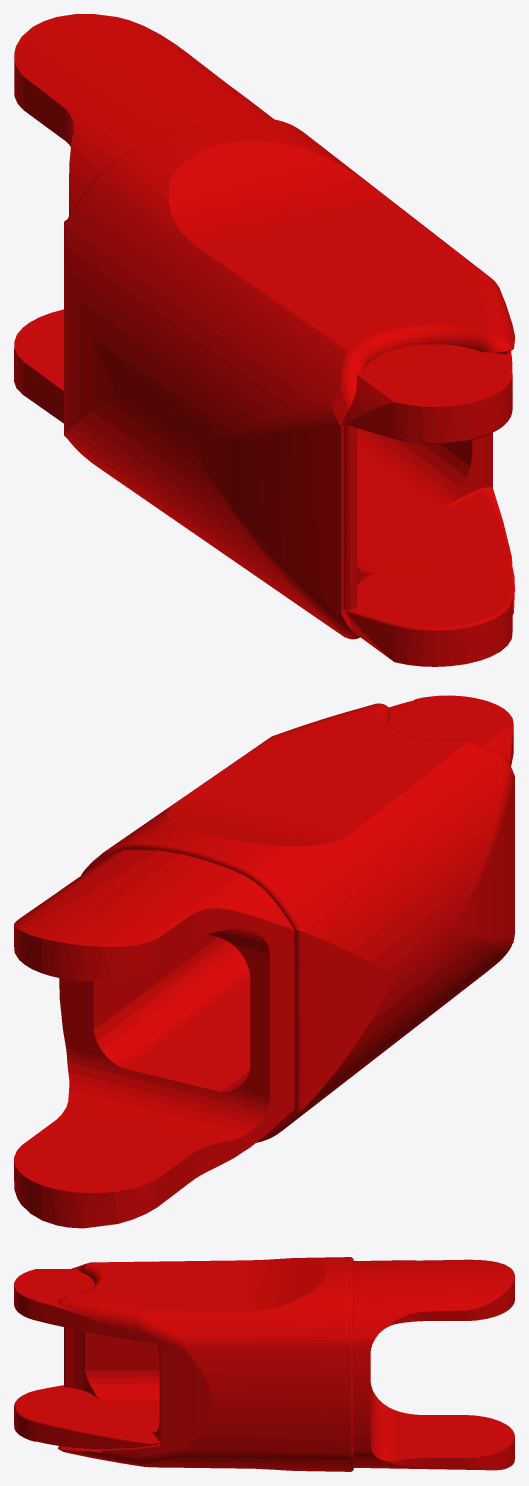
File: finger_link1.dae
3 renders of one model, top to bottom at view 1: azimuth 30°, elevation 25°; view 2: azimuth 150°, elevation 25°; view 3: azimuth 270°, elevation 25°, orthographic. The views are drawn at different scales.
Parts seen in each view (by area): view 1: Untitled; view 2: Untitled; view 3: Untitled.
Part boxes in pixels (<box>): Untitled: <box>14,14,514,666</box>; Untitled: <box>14,695,514,1228</box>; Untitled: <box>14,1257,514,1471</box>.
Size of the model in its own units: 0.0227 by 0.059 by 0.0242.
